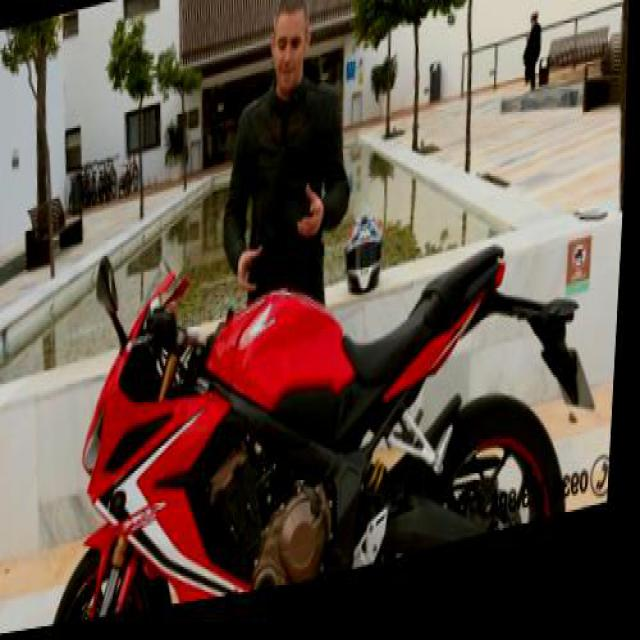CBR650R: (44, 172, 593, 628)
